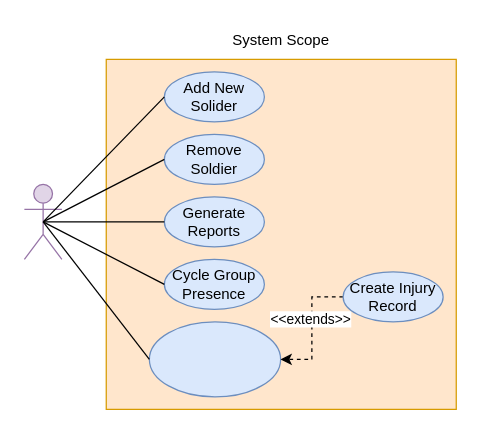
Image size: 479x431. Some labels were removed from this diagram. The box of each missing label's shape, as (x1, y1, x2, y2) in pixels:
Admin: (23, 183, 62, 259)
Generate Individual Papers: (148, 321, 281, 397)
